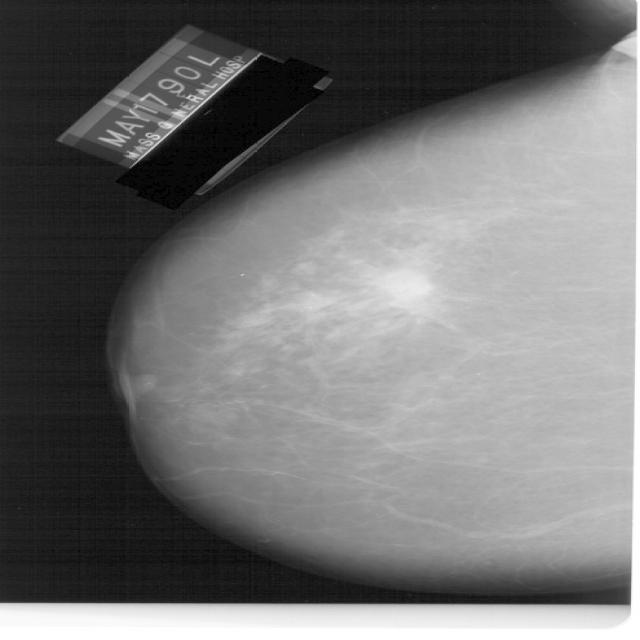tumour: (375, 264, 433, 304)
